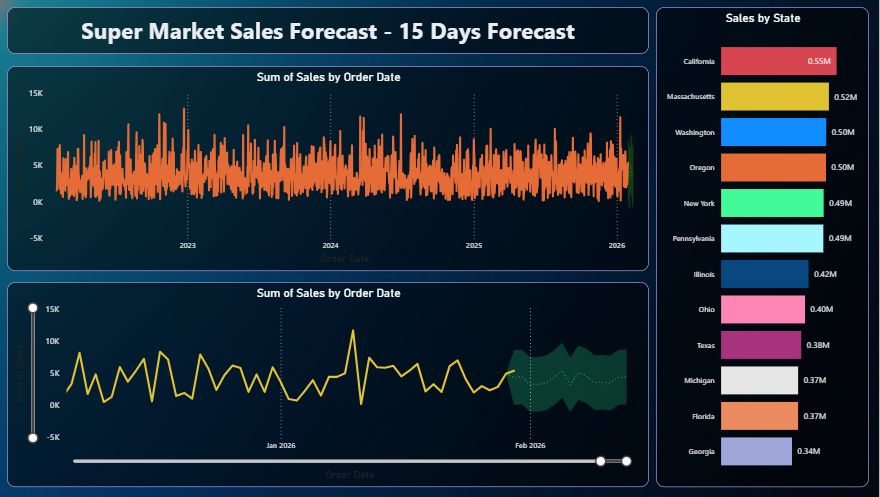

What the dashboard file says about the page in this screenshot:
{"tool":"powerbi","page":{"name":"15 Day Forecast","canvas":[1280,720],"ordinal":1},"visuals":[{"type":"lineChart","fields":{"Y":["Sum(SuperStore_Sales_Realistic.Sales)"],"Category":["SuperStore_Sales_Realistic.Order Date"]},"box":[22.9,95.7,917.1,292.9],"z":0},{"type":"lineChart","fields":{"Y":["Sum(SuperStore_Sales_Realistic.Sales)"],"Category":["SuperStore_Sales_Realistic.Order Date"]},"box":[22.9,404.3,917.1,292.9],"z":1000},{"type":"textbox","box":[22.9,11.4,917.1,67.1],"z":2000},{"type":"clusteredBarChart","title":"Sales by State","fields":{"Category":["SuperStore_Sales_Realistic.State"],"Y":["Sum(SuperStore_Sales_Realistic.Sales)"]},"box":[950,11.4,304.3,685.7],"z":3000}]}

Visuals, with their boxes in screenshot pixels (x1, y1, x2, y2), scaled from the page's 1280x720 canvas onto the 880x497 screenshot:
lineChart - Sum(SuperStore_Sales_Realistic.Sales) x SuperStore_Sales_Realistic.Order Date: <region>16, 66, 646, 268</region>
lineChart - Sum(SuperStore_Sales_Realistic.Sales) x SuperStore_Sales_Realistic.Order Date: <region>16, 279, 646, 481</region>
textbox: <region>16, 8, 646, 54</region>
"Sales by State" clusteredBarChart: <region>653, 8, 862, 481</region>
